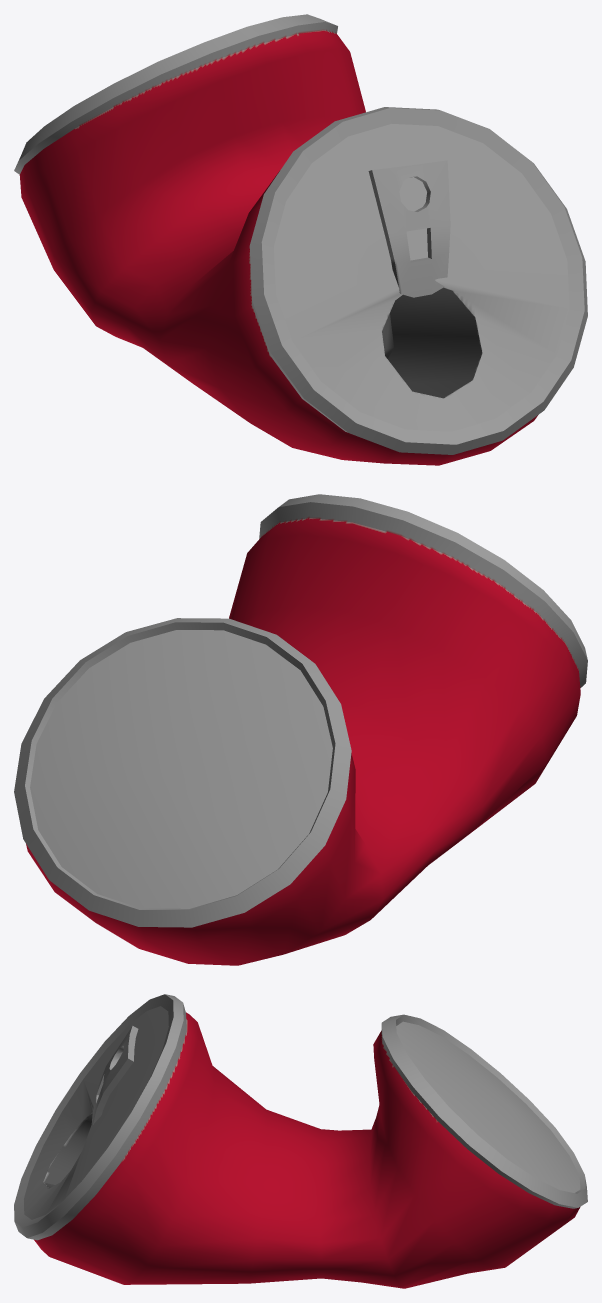
File: Mesh_Can_1_1 (1).fbx
3 renders of one model, top to bottom at view 1: azimuth 30°, elevation 25°; view 2: azimuth 150°, elevation 25°; view 3: azimuth 270°, elevation 25°, orthographic. The views are drawn at different scales.
Visible parts, largest first — view 1: Can_3; view 2: Can_3; view 3: Can_3.
Part boxes in pixels (bbox=[...]): Can_3: bbox=[14, 14, 587, 465]; Can_3: bbox=[14, 494, 587, 965]; Can_3: bbox=[14, 994, 587, 1288].
Size of the model in its own units: 30.73 by 28.73 by 58.51.
